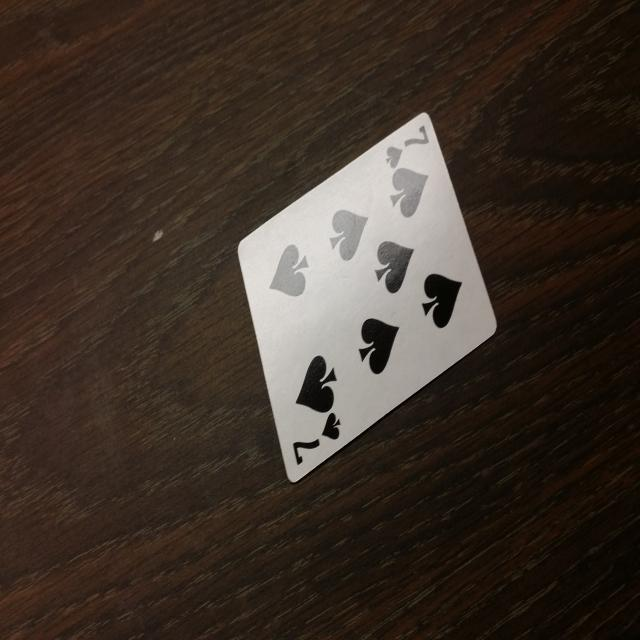7s: (289, 407, 350, 471), (382, 117, 432, 176)
